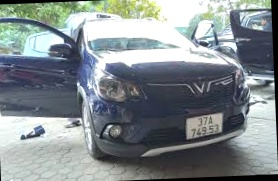Bien-so: (185, 116, 222, 144)
